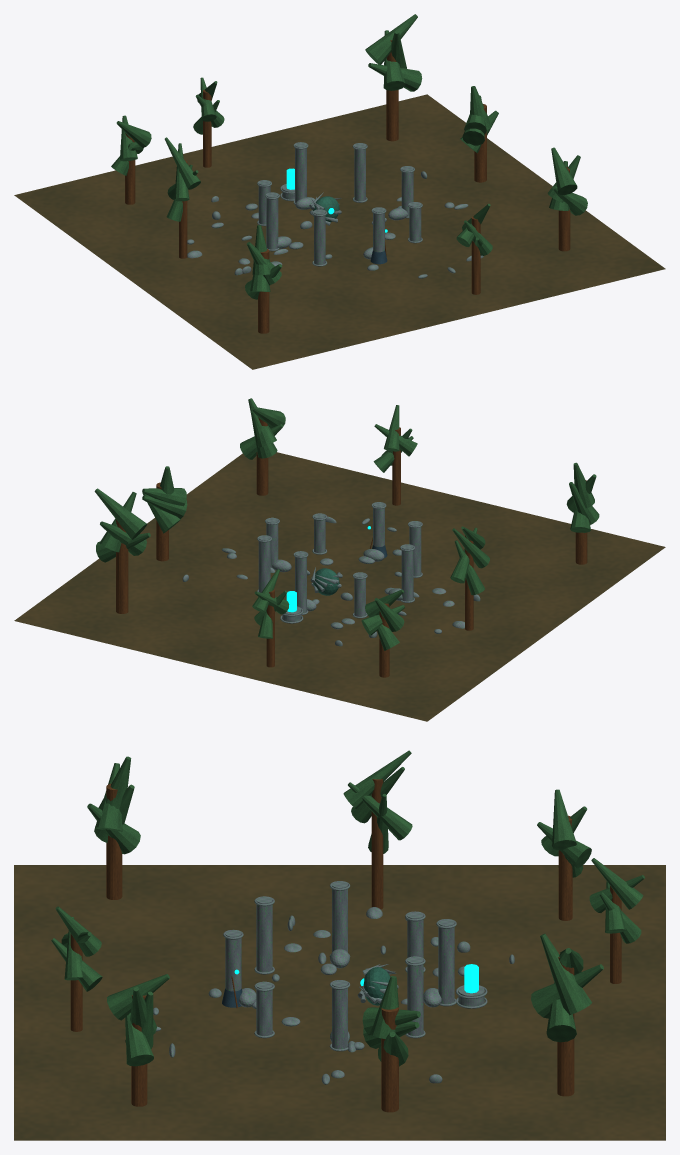
File: veiled_reach-realistic.glb
3 renders of one model, top to bottom at view 1: azimuth 30°, elevation 25°; view 2: azimuth 150°, elevation 25°; view 3: azimuth 270°, elevation 25°, orthographic. The views are drawn at different scales.
Visible parts, largest first — view 1: Hollowmere terrain, Old growth 05 crown.003, Old growth 05 trunk, Observatory column 04, Observatory column 01, Observatory column 02, Old growth 03 crown.003, Observatory column 05, Old growth 07 trunk, Old growth 00 trunk, Old growth 01 crown.003, Old growth 05 crown.001 (+4 smaller); view 2: Hollowmere terrain, Old growth 05 trunk, Old growth 05 crown.003, Observatory column 04, Observatory column 01, Observatory column 02, Observatory column 05, Old growth 03 trunk, Old growth 04 crown.002, Observatory column 06, Observatory column 03, Old growth 05 crown.001 (+2 smaller); view 3: Hollowmere terrain, Old growth 05 crown.002, Observatory column 02, Old growth 04 trunk, Old growth 01 trunk, Observatory column 05, Old growth 00 trunk, Observatory column 01, Observatory column 04, Old growth 05 trunk, Observatory column 00, Observatory column 06 (+26 smaller).
Part boxes in pixels (bbox=[...]): Hollowmere terrain: bbox=[14, 94, 665, 369]; Old growth 05 crown.003: bbox=[365, 14, 417, 65]; Old growth 05 trunk: bbox=[386, 40, 398, 141]; Observatory column 04: bbox=[266, 192, 278, 249]; Observatory column 01: bbox=[354, 143, 365, 201]; Observatory column 02: bbox=[295, 142, 306, 202]; Old growth 03 crown.003: bbox=[551, 147, 577, 195]; Observatory column 05: bbox=[314, 209, 325, 264]; Old growth 07 trunk: bbox=[471, 216, 480, 294]; Old growth 00 trunk: bbox=[258, 249, 269, 333]; Old growth 01 crown.003: bbox=[164, 137, 200, 189]; Old growth 05 crown.001: bbox=[383, 30, 405, 90]; Hollowmere terrain: bbox=[14, 452, 665, 721]; Old growth 05 trunk: bbox=[116, 519, 128, 613]; Old growth 05 crown.003: bbox=[94, 488, 147, 539]; Observatory column 04: bbox=[401, 544, 413, 601]; Observatory column 01: bbox=[258, 535, 270, 592]; Observatory column 02: bbox=[295, 551, 306, 613]; Observatory column 05: bbox=[409, 521, 421, 576]; Old growth 03 trunk: bbox=[256, 417, 268, 495]; Old growth 04 crown.002: bbox=[142, 488, 186, 506]; Observatory column 06: bbox=[373, 502, 384, 546]; Observatory column 03: bbox=[354, 572, 365, 616]; Old growth 05 crown.001: bbox=[100, 521, 146, 555]; Hollowmere terrain: bbox=[14, 865, 665, 1140]; Old growth 05 crown.002: bbox=[540, 933, 591, 1015]; Observatory column 02: bbox=[438, 919, 454, 1004]; Old growth 04 trunk: bbox=[381, 1007, 398, 1112]; Old growth 01 trunk: bbox=[371, 779, 383, 909]; Observatory column 05: bbox=[256, 896, 272, 972]; Old growth 00 trunk: bbox=[106, 783, 122, 899]; Observatory column 01: bbox=[407, 956, 423, 1035]; Observatory column 04: bbox=[332, 881, 347, 952]; Old growth 05 trunk: bbox=[557, 953, 574, 1096]; Observatory column 00: bbox=[332, 980, 347, 1049]; Observatory column 06: bbox=[225, 930, 241, 991].
Size of the model in its own units: 52 by 14.78 by 52.
38 materials, 37 textured.
